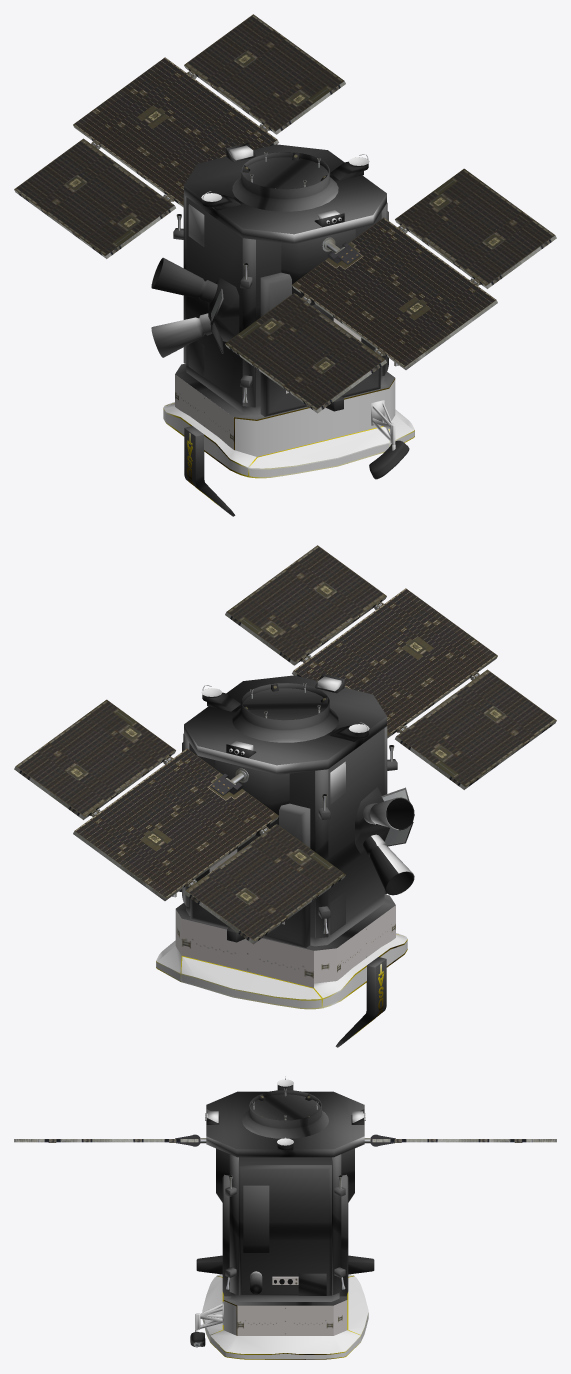
Rendered from CloudSat (C).glb.
3 renders of one model, top to bottom at view 1: azimuth 30°, elevation 25°; view 2: azimuth 150°, elevation 25°; view 3: azimuth 270°, elevation 25°, orthographic. The views are drawn at different scales.
Parts seen in each view (by area): view 1: shiny_panel, krinkle, foil_silver.001, tex_01, foil_gold; view 2: shiny_panel, krinkle, tex_01, foil_silver.001, foil_gold; view 3: krinkle, tex_01, foil_silver.001, foil_gold, foil_silver.003.
Boxes of the visible parts, box(x1,y1,x2,y2) form: shiny_panel: box(14, 14, 555, 410); krinkle: box(151, 143, 409, 516); foil_silver.001: box(163, 145, 414, 477); tex_01: box(14, 65, 556, 449); foil_gold: box(163, 378, 414, 506); shiny_panel: box(15, 545, 556, 941); krinkle: box(176, 674, 414, 1047); tex_01: box(14, 596, 556, 987); foil_silver.001: box(156, 676, 407, 1008); foil_gold: box(156, 934, 407, 1037); krinkle: box(190, 1079, 374, 1347); tex_01: box(14, 1088, 556, 1346); foil_silver.001: box(202, 1111, 368, 1359); foil_gold: box(202, 1275, 368, 1359); foil_silver.003: box(195, 1303, 222, 1331).
Bounding box in the file's own units: 2.21 × 2.95 × 5.08.
6 materials, 5 textured.
